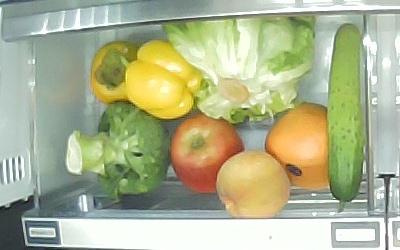apple: (171, 114, 244, 193)
broccoli: (66, 101, 172, 195)
cucumber: (327, 24, 364, 213)
grapefruit: (265, 103, 330, 188)
lettuce: (162, 15, 314, 124)
paprika: (121, 40, 203, 119)
peach: (216, 151, 290, 217)
persimmon: (90, 41, 139, 104)
